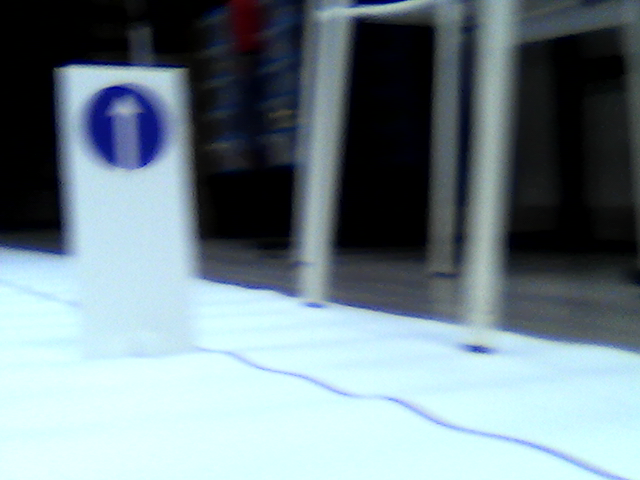forw: (82, 83, 165, 173)
